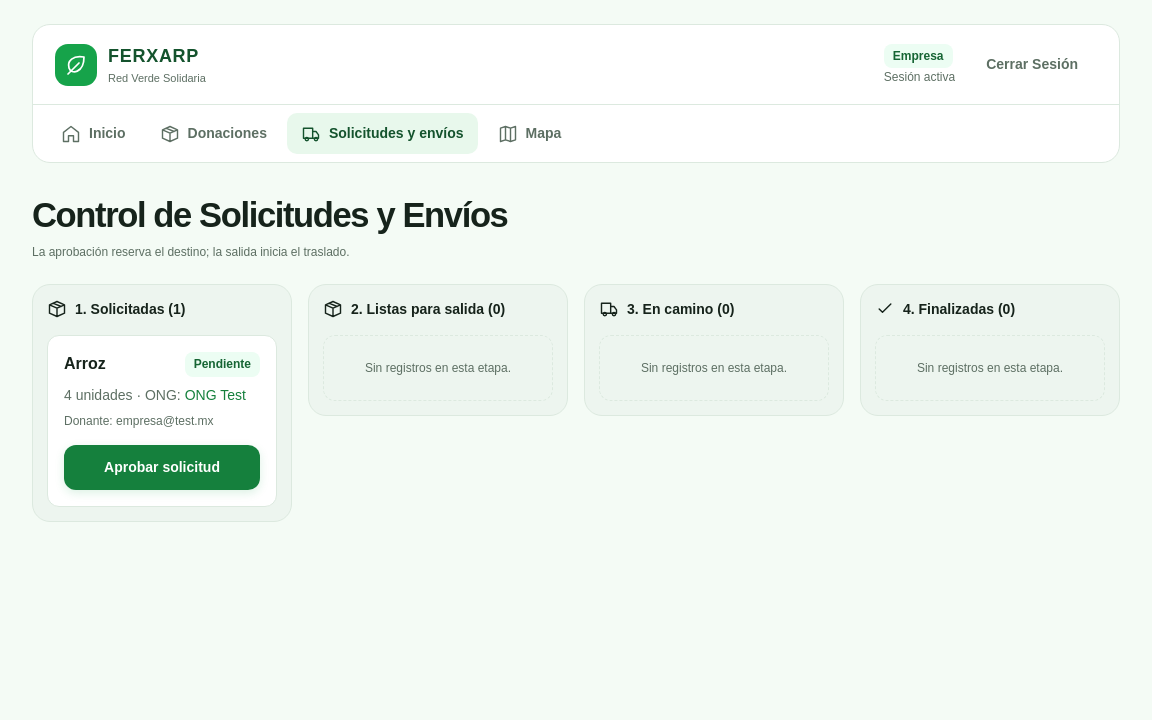
JEST-FLOW-01 reservado pendiente permite aprobar solo a Empresa
Click the button "Aprobar solicitud": point(162, 468) [64,445,260,490]
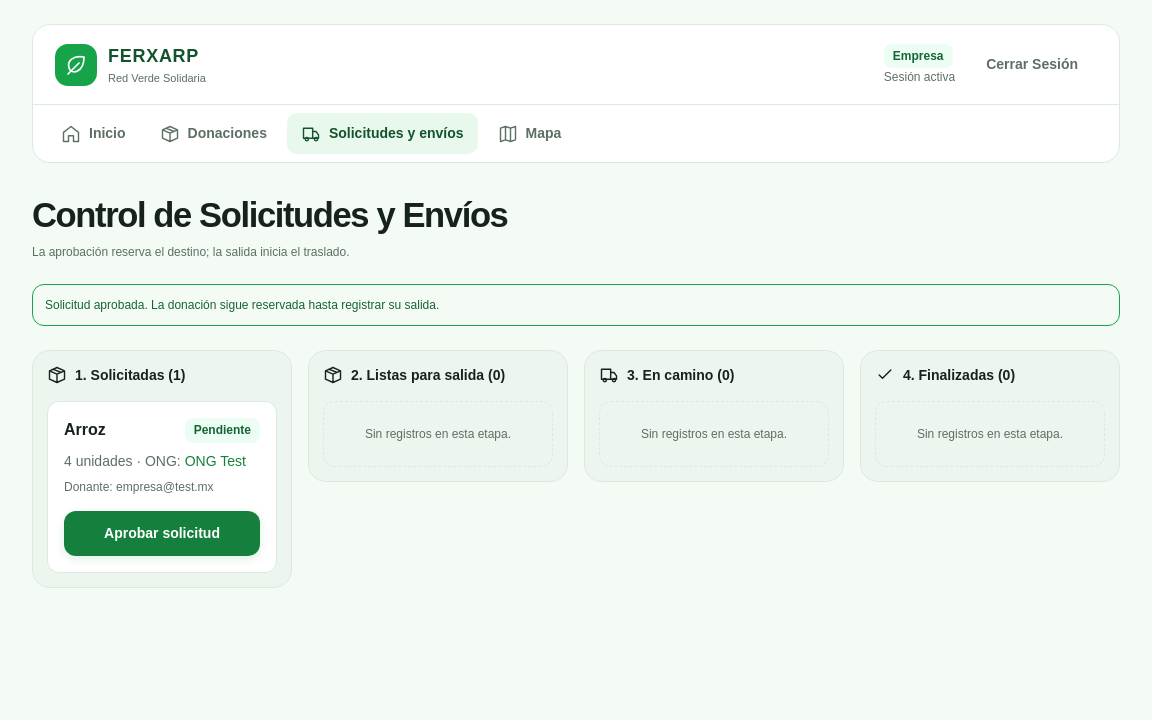
Expected: the message shows "Solicitud aprobada", [45,298,439,312]
